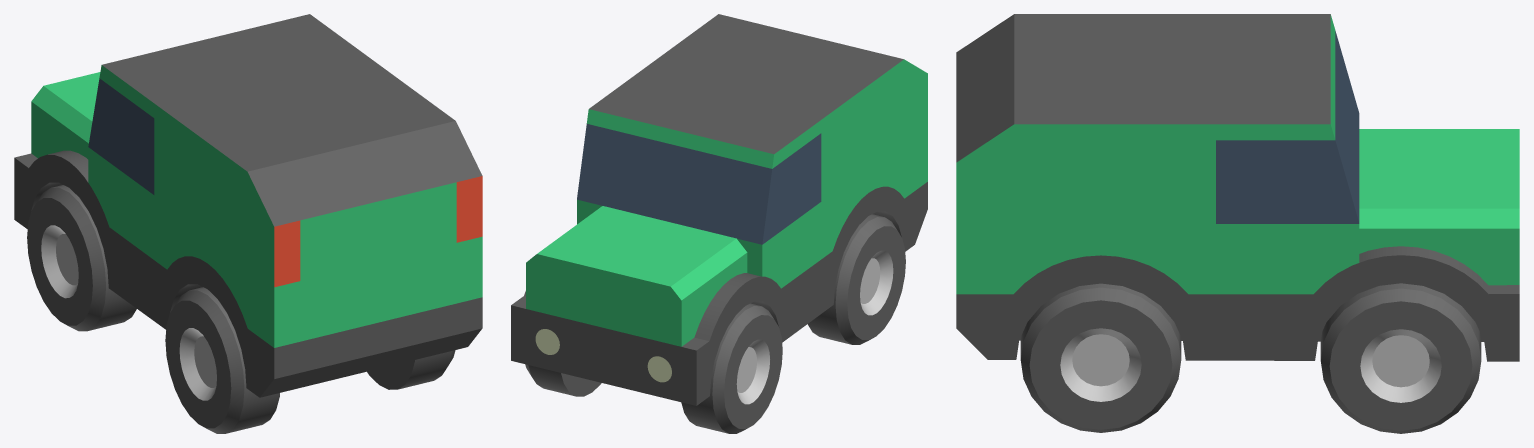
Rendered from carJeep.obj.
The picture shows the model from 3 angles, left to right: view 1: azimuth 30°, elevation 25°; view 2: azimuth 150°, elevation 25°; view 3: azimuth 270°, elevation 25°; orthographic projection. The views are drawn at different scales.
Parts seen in each view (by area): view 1: body 4, wheelBackLeft 4, wheelFrontLeft 4, wheelBackRight 4; view 2: body 4, wheelFrontLeft 4, wheelBackLeft 4, wheelFrontRight 4; view 3: body 4, wheelFrontRight 4, wheelBackRight 4.
Boxes of the visible parts, x1,y1,x2,y2 form: body 4: (14,14,482,397); wheelBackLeft 4: (165,287,279,433); wheelFrontLeft 4: (27,185,136,331); wheelBackRight 4: (367,350,455,389); body 4: (511,14,927,405); wheelFrontLeft 4: (681,303,782,433); wheelBackLeft 4: (807,214,905,344); wheelFrontRight 4: (525,364,601,396); body 4: (956,14,1519,361); wheelFrontRight 4: (1320,283,1481,433); wheelBackRight 4: (1020,283,1181,432).
Size of the model in its own units: 4.95 by 5.99 by 9.83.
